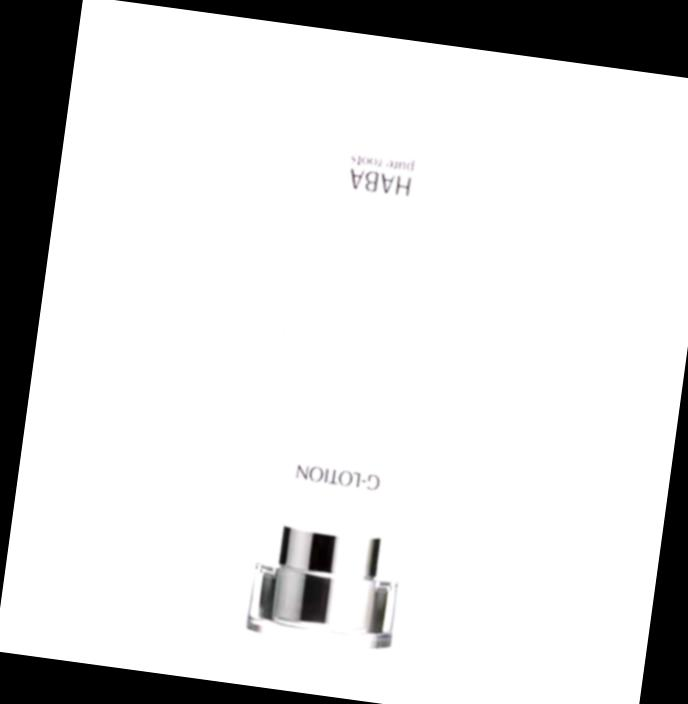cosmetic: (234, 68, 473, 652)
